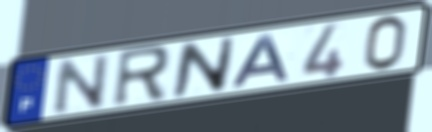0: (362, 13, 410, 73)
4: (300, 20, 348, 80)
A: (229, 32, 293, 90)
N: (169, 35, 239, 100), (52, 51, 112, 117)
R: (109, 43, 172, 110)
